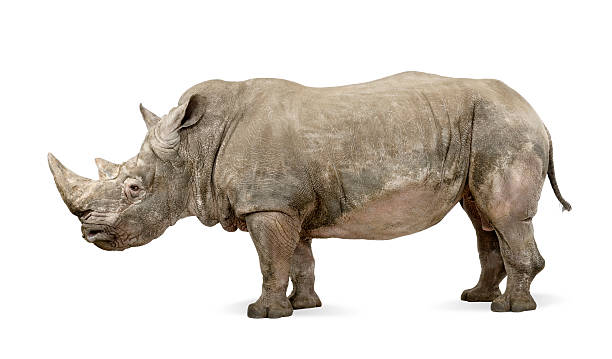rhino: (28, 90, 227, 271)
